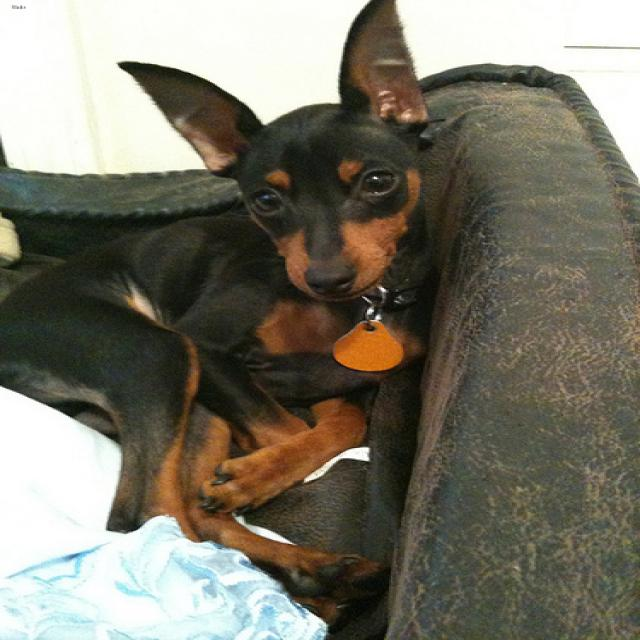dog-miniature_pinscher: (2, 1, 449, 614)
